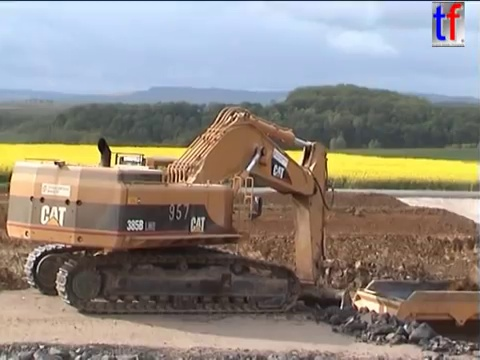excavator: (3, 104, 356, 345)
truck: (349, 277, 480, 360)
